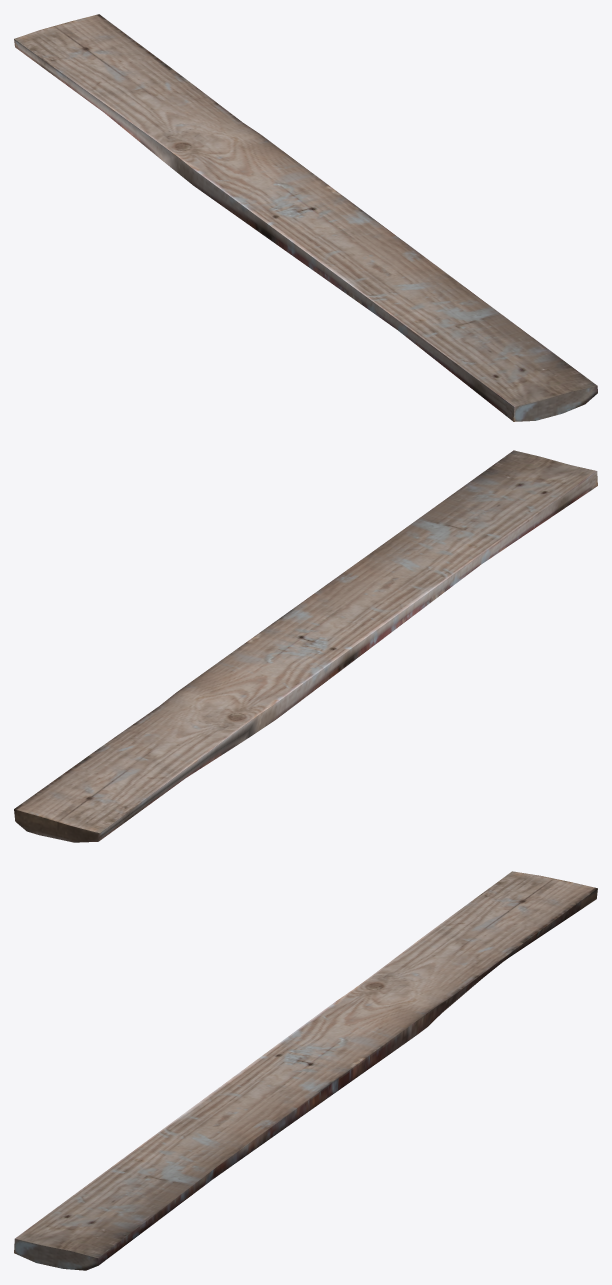
The model's file is sm_WoodPallet_01_06.fbx.
3 renders of one model, top to bottom at view 1: azimuth 30°, elevation 25°; view 2: azimuth 150°, elevation 25°; view 3: azimuth 330°, elevation 25°, orthographic.
Visible parts, largest first — view 1: sm_WoodPallet_01_06_LOD0; view 2: sm_WoodPallet_01_06_LOD0; view 3: sm_WoodPallet_01_06_LOD0.
Part boxes in pixels (x1,y1,x2,y2): sm_WoodPallet_01_06_LOD0: [14, 14, 597, 421]; sm_WoodPallet_01_06_LOD0: [14, 450, 597, 842]; sm_WoodPallet_01_06_LOD0: [14, 871, 597, 1270].
Size of the model in its own units: 119 by 11.78 by 3.32.
